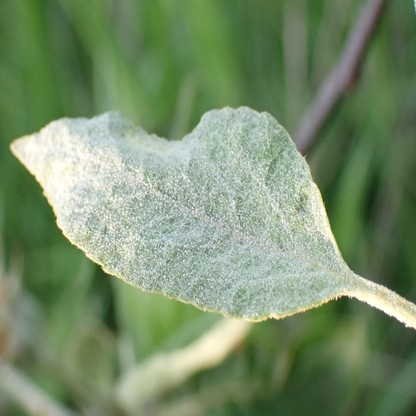powdery_mildew: (9, 106, 348, 320)
